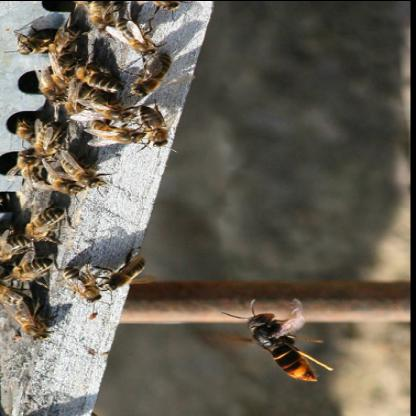asian: (221, 294, 341, 389)
